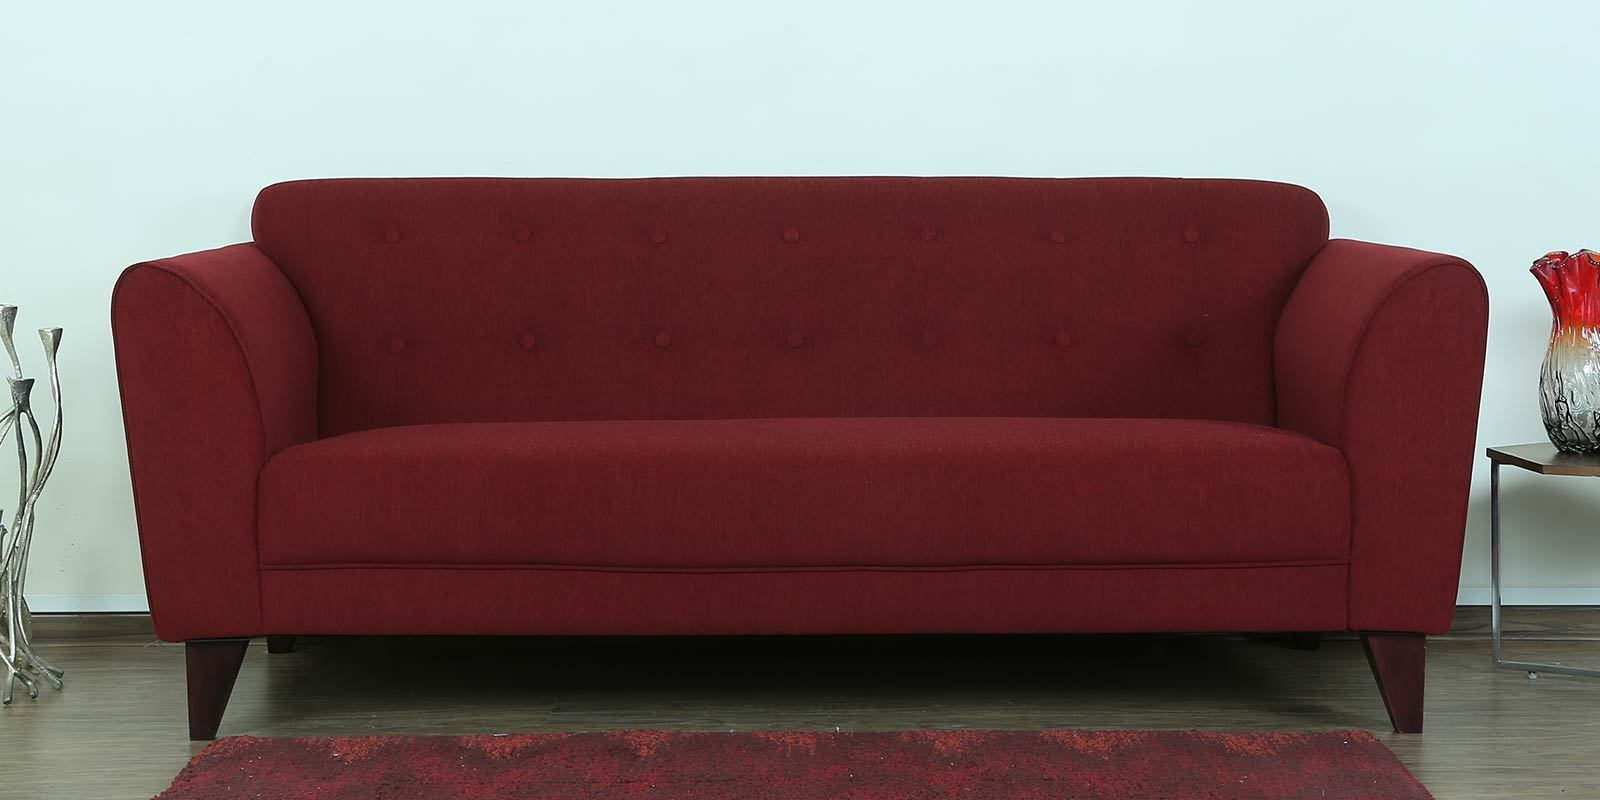Belem Three Seater Sofa in Garnet Red Color by CasaCraft: (99, 176, 1493, 688)
